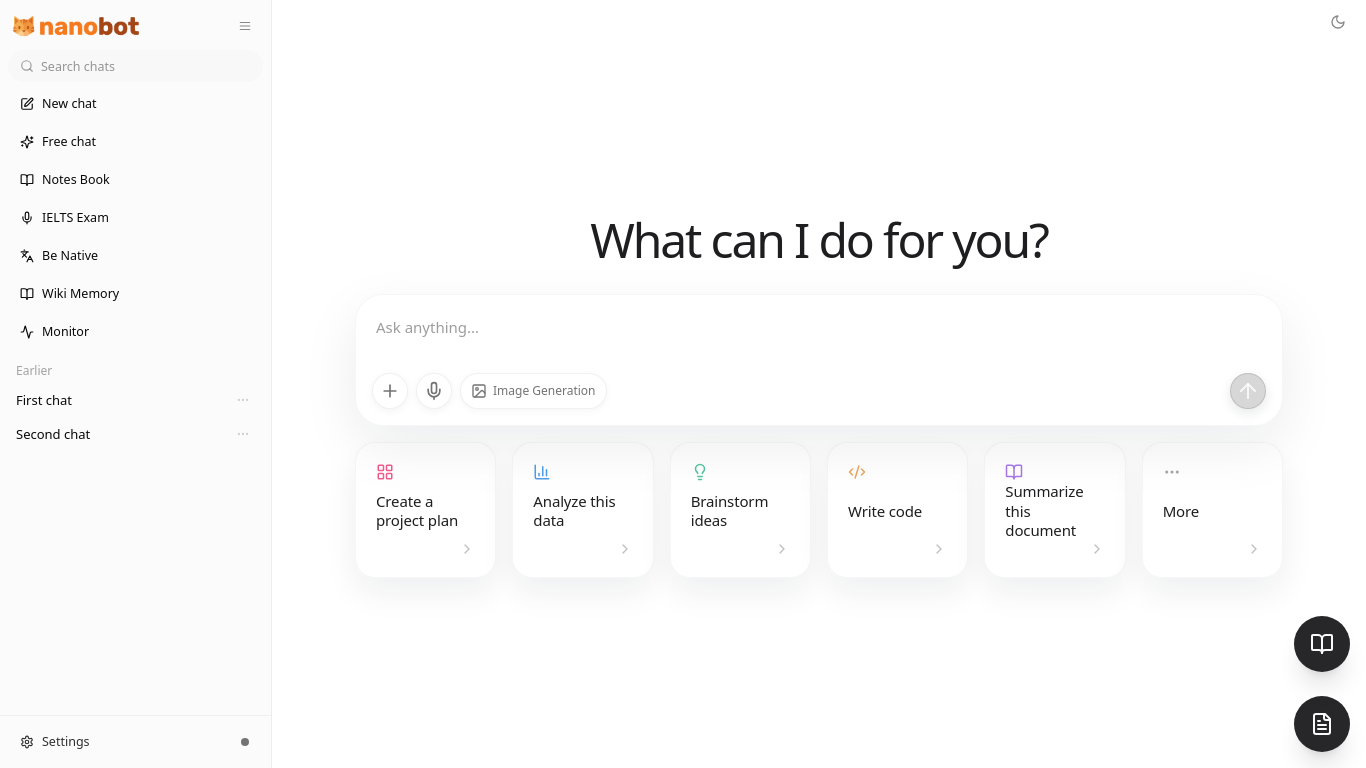
Scenario: App layout › returns from settings to the blank start page when no session was active
The image size is (1366, 768).
Click the button "New chat" at (136, 104), box [8,88,263,120]
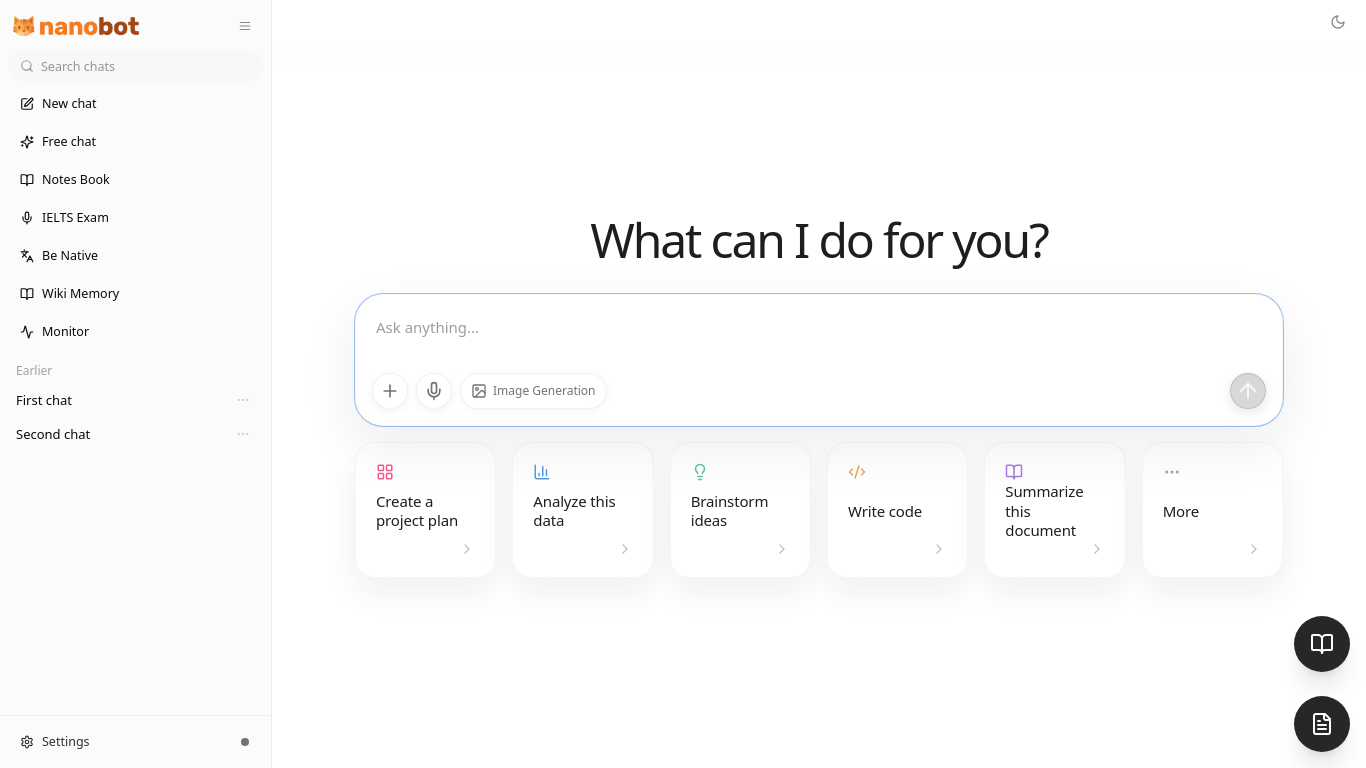
Click the button "Settings" at (118, 742), box [10,726,225,758]
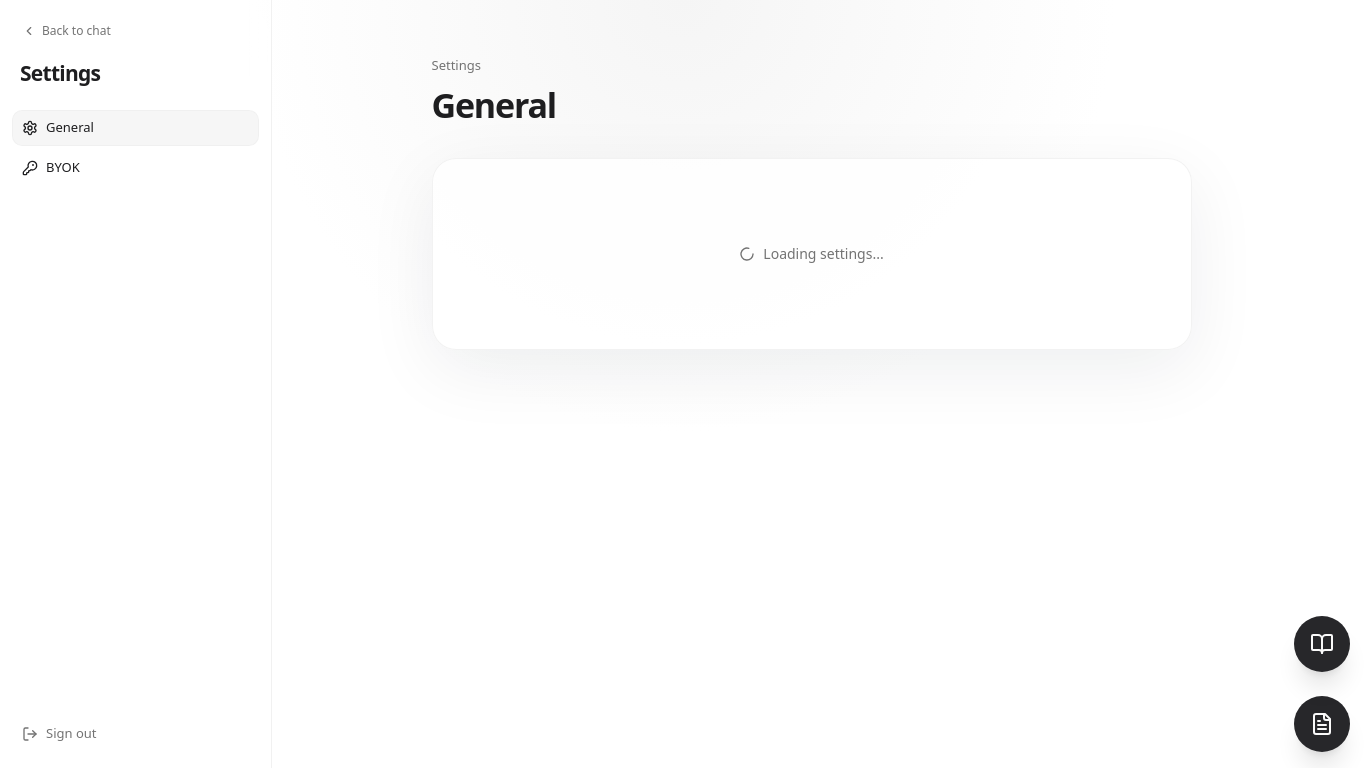
Now the heading "General" is shown, box [432,82,556,128]
Click the button "Back to chat" at (66, 31), box [12,16,121,46]
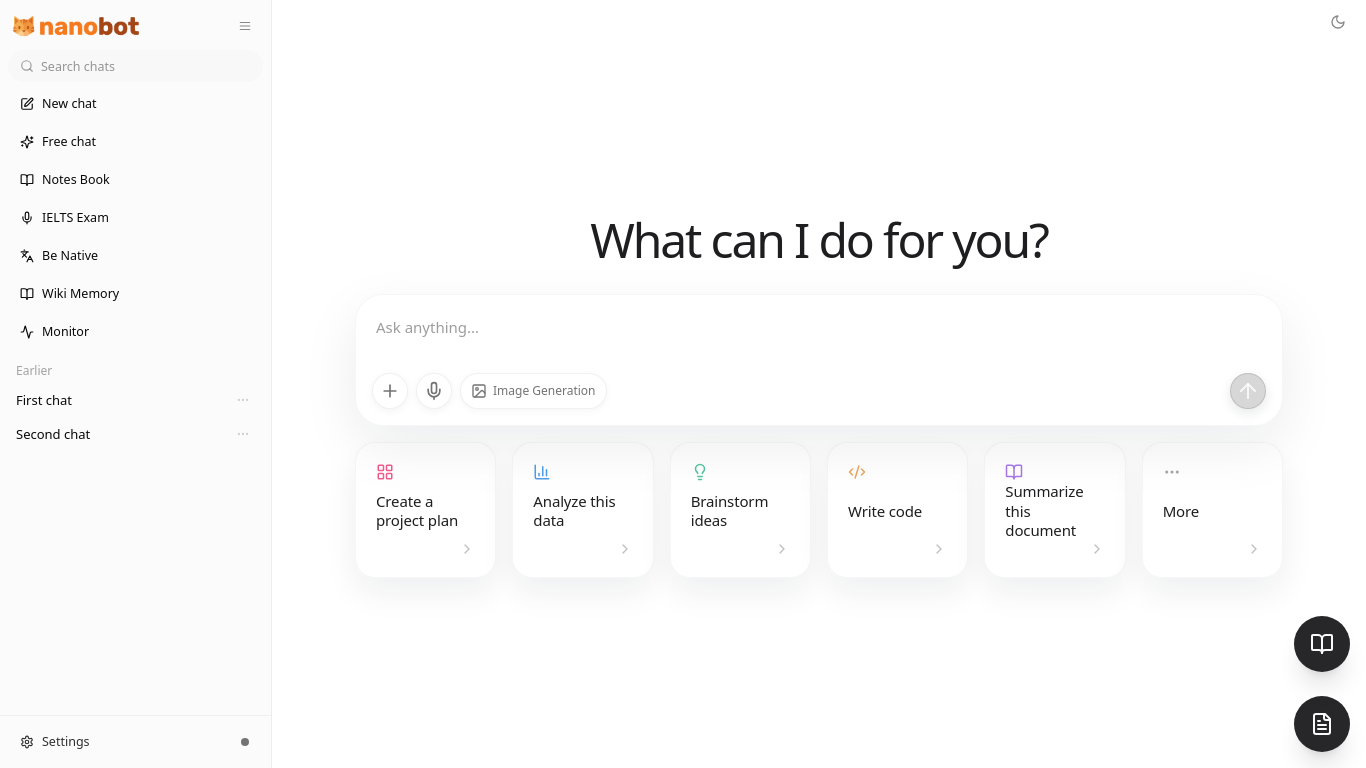
Now the heading "What can I do for you?" is shown, box [590,210,1048,270]
